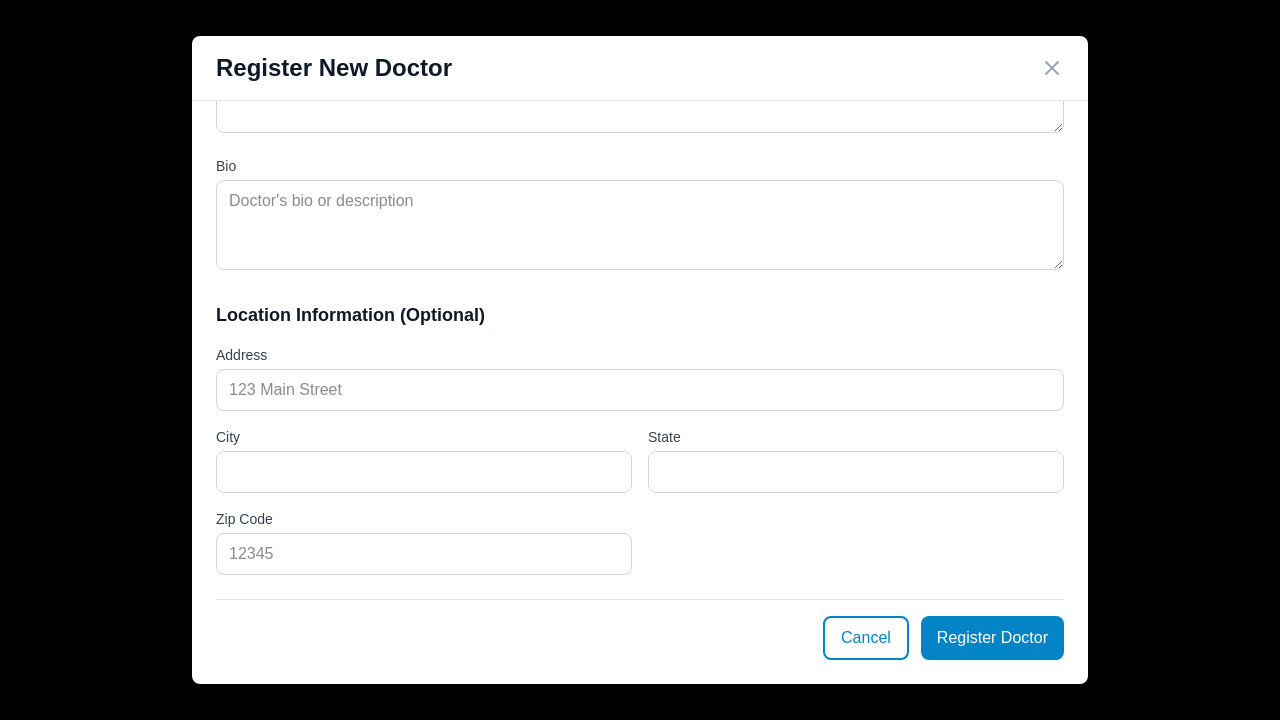
Test case: DoctorRegistrationModal › shows validation error for empty required fields
The image size is (1280, 720).
(page scrolled)
Click the button "Register Doctor" at x=992, y=638, box [921,616,1064,660]
(page scrolled)
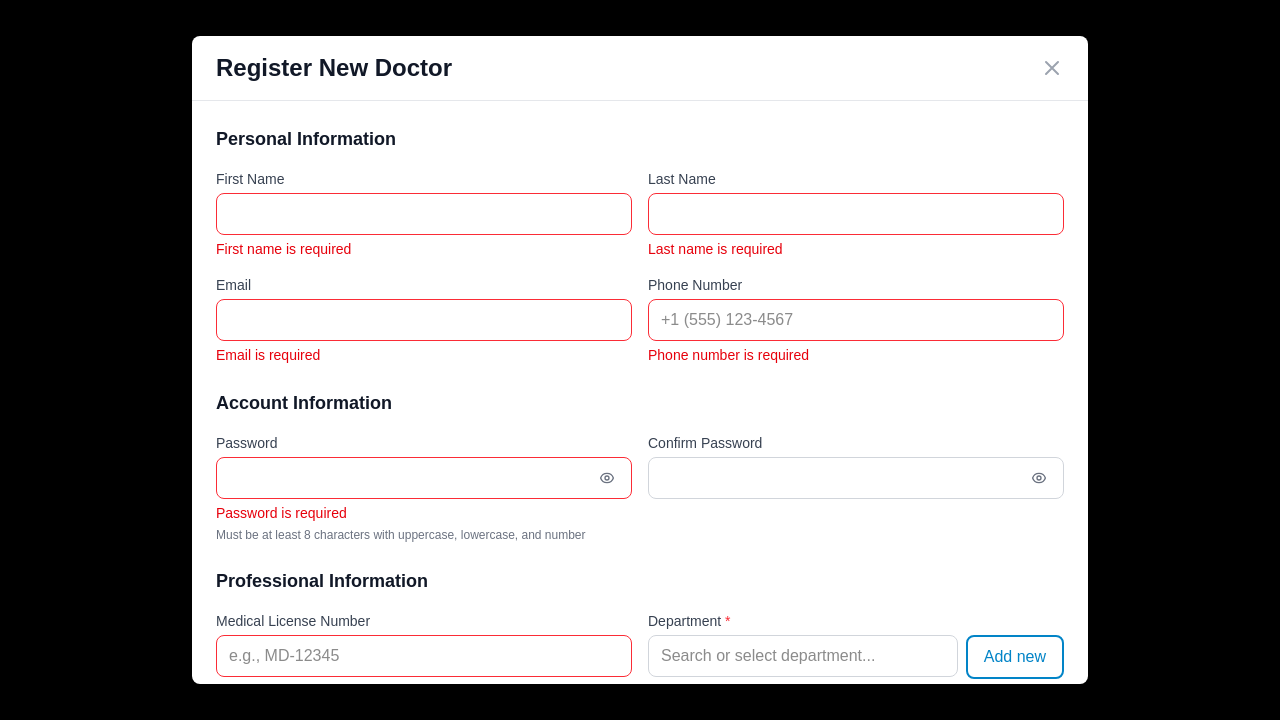
Check: the text "Email is required" is shown, box [216,347,320,363]
